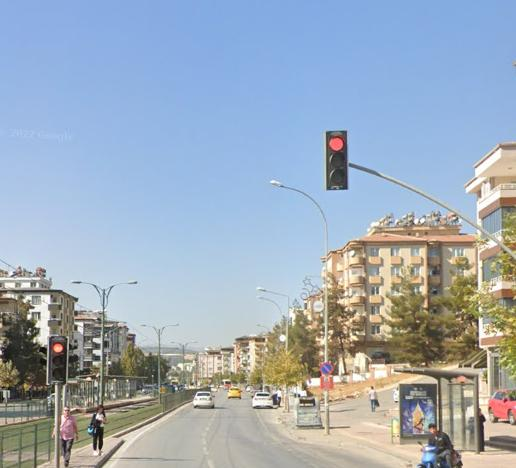nopark: (319, 362, 333, 376)
redlight: (327, 131, 348, 191), (48, 338, 69, 384)
